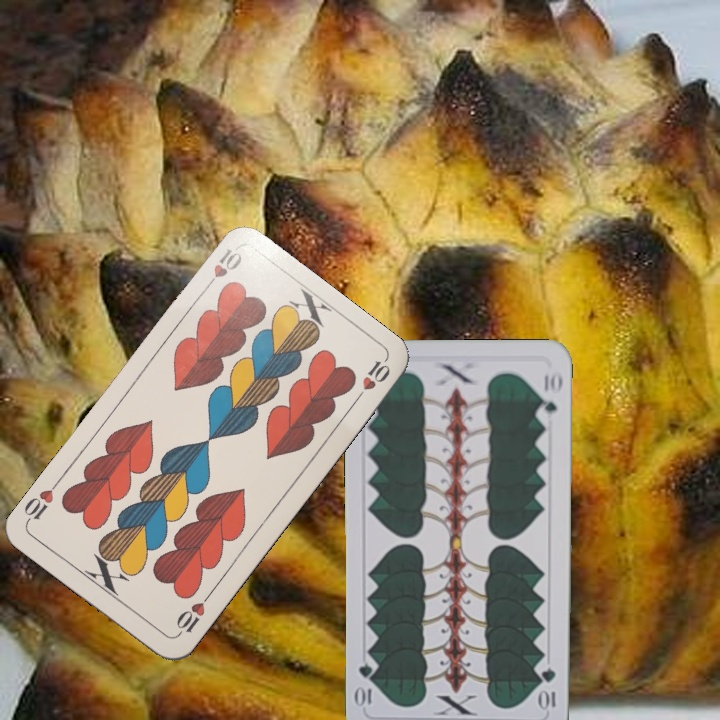G10: (538, 664, 558, 712)
H10: (199, 244, 245, 295), (171, 589, 214, 639)
